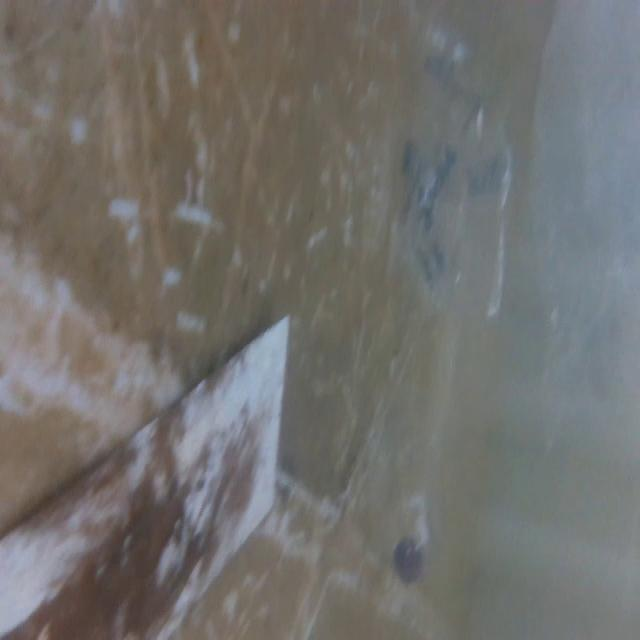metal: (0, 306, 297, 640)
plastic bags: (533, 103, 640, 472), (386, 16, 516, 317)
plastic bottle: (364, 355, 449, 597)
